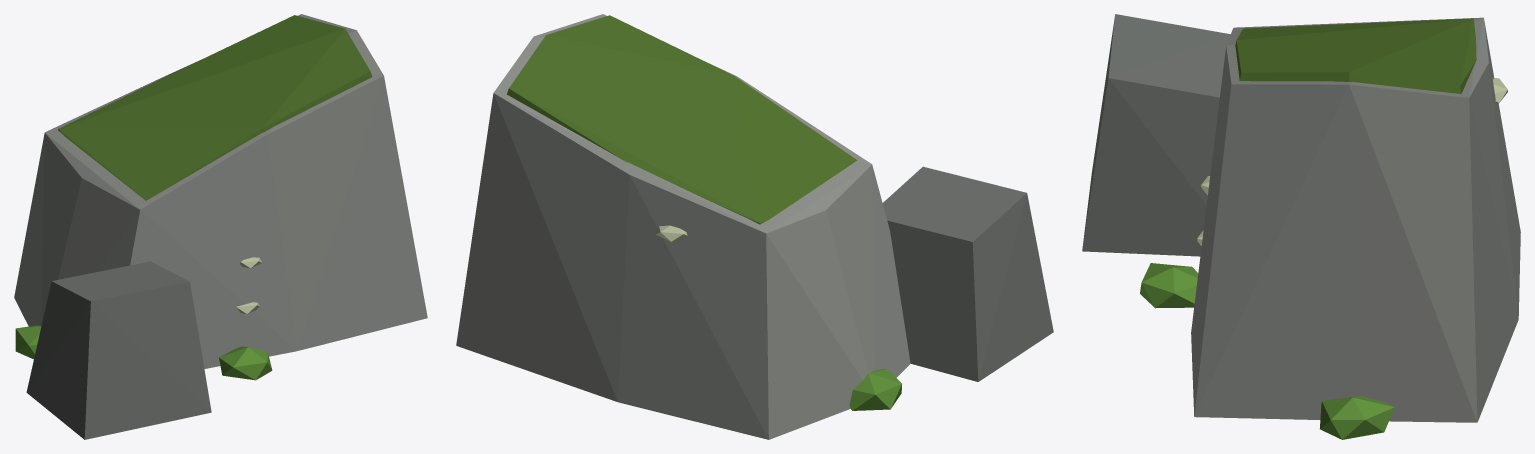
Rendered from forest_rock_slab.glb.
The picture shows the model from 3 angles, left to right: view 1: azimuth 30°, elevation 25°; view 2: azimuth 150°, elevation 25°; view 3: azimuth 270°, elevation 25°; orthographic projection. The views are drawn at different scales.
Parts seen in each view (by area): view 1: forest_rock_slab; view 2: forest_rock_slab; view 3: forest_rock_slab.
Part boxes in pixels (left/top/right/bottom): forest_rock_slab: left=14, top=14, right=427, bottom=439; forest_rock_slab: left=456, top=14, right=1053, bottom=439; forest_rock_slab: left=1082, top=14, right=1520, bottom=439.
Bounding box in the file's own units: 6.5 × 3.74 × 4.51.
